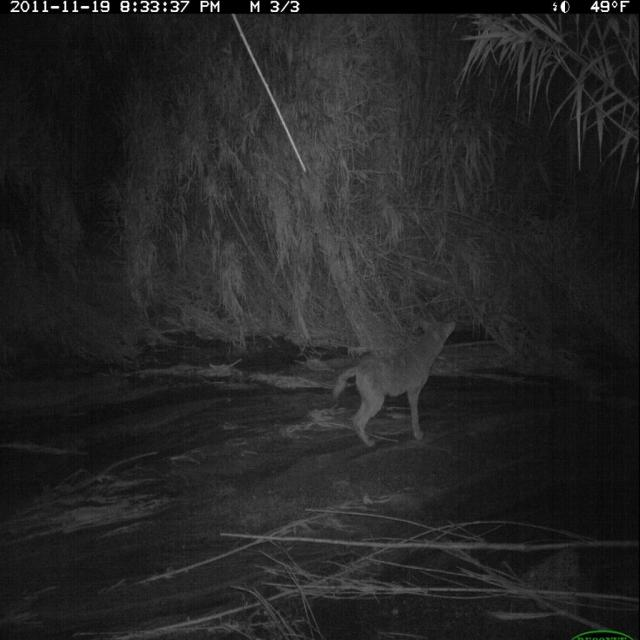coyote: (334, 303, 465, 471)
